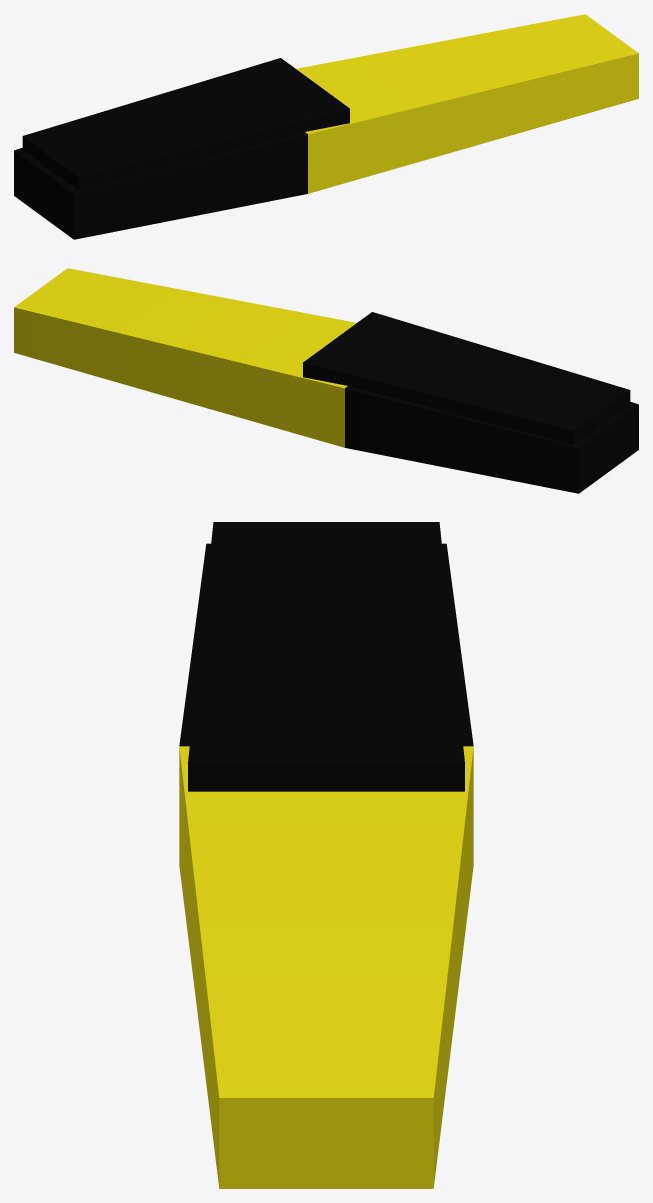
The model's file is Marker.fbx.
3 renders of one model, top to bottom at view 1: azimuth 30°, elevation 25°; view 2: azimuth 150°, elevation 25°; view 3: azimuth 270°, elevation 25°, orthographic. The views are drawn at different scales.
Parts seen in each view (by area): view 1: Marker; view 2: Marker; view 3: Marker.
Part boxes in pixels (left/top/right/bottom): Marker: left=14, top=14, right=638, bottom=239; Marker: left=14, top=268, right=638, bottom=493; Marker: left=179, top=522, right=473, bottom=1188.
Size of the model in its own units: 10.48 by 1.29 by 2.35.
